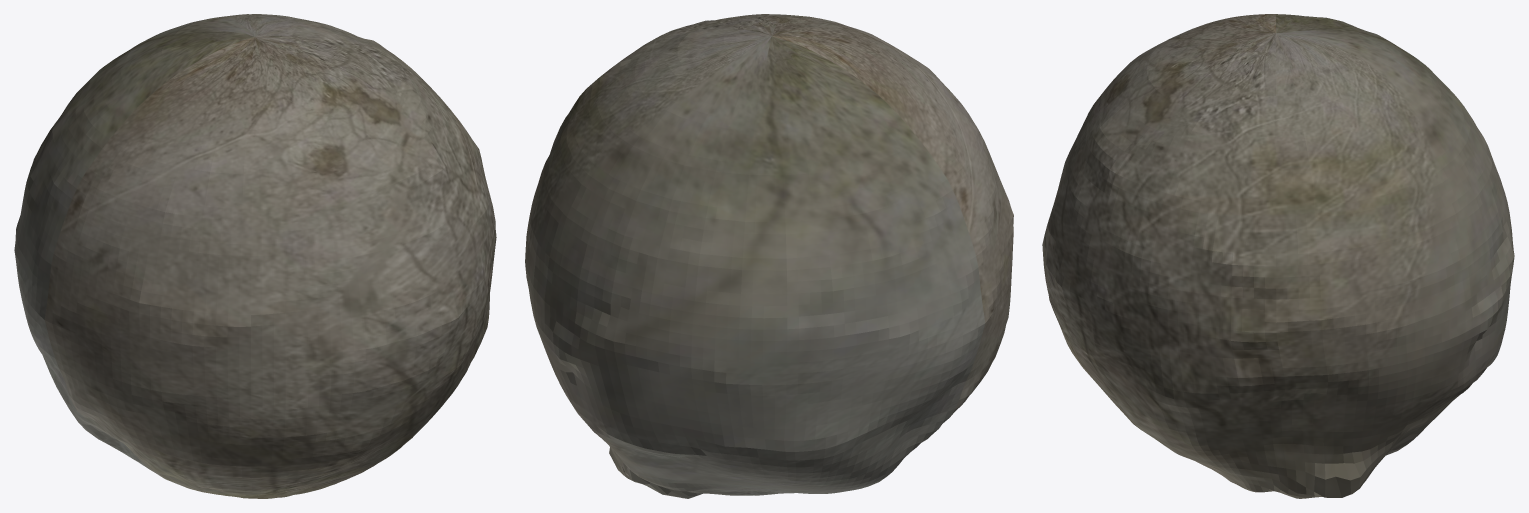
Rendered from europa.glb.
The picture shows the model from 3 angles, left to right: view 1: azimuth 30°, elevation 25°; view 2: azimuth 150°, elevation 25°; view 3: azimuth 270°, elevation 25°; orthographic projection. The views are drawn at different scales.
Parts seen in each view (by area): view 1: Sphere; view 2: Sphere; view 3: Sphere.
Part boxes in pixels (left/top/right/bottom): Sphere: left=14, top=14, right=496, bottom=498; Sphere: left=525, top=14, right=1013, bottom=498; Sphere: left=1042, top=14, right=1514, bottom=498.
Bounding box in the file's own units: 7.17 × 7.32 × 7.23.
Materials: 1 (1 with a texture image).
